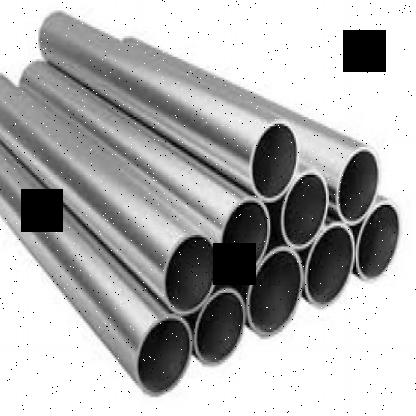pipe: (246, 245, 306, 339), (134, 314, 193, 400), (162, 232, 221, 316), (216, 195, 273, 280), (303, 221, 356, 310), (278, 167, 332, 252), (247, 120, 301, 204), (192, 286, 247, 368), (353, 198, 404, 284), (334, 146, 382, 228)
